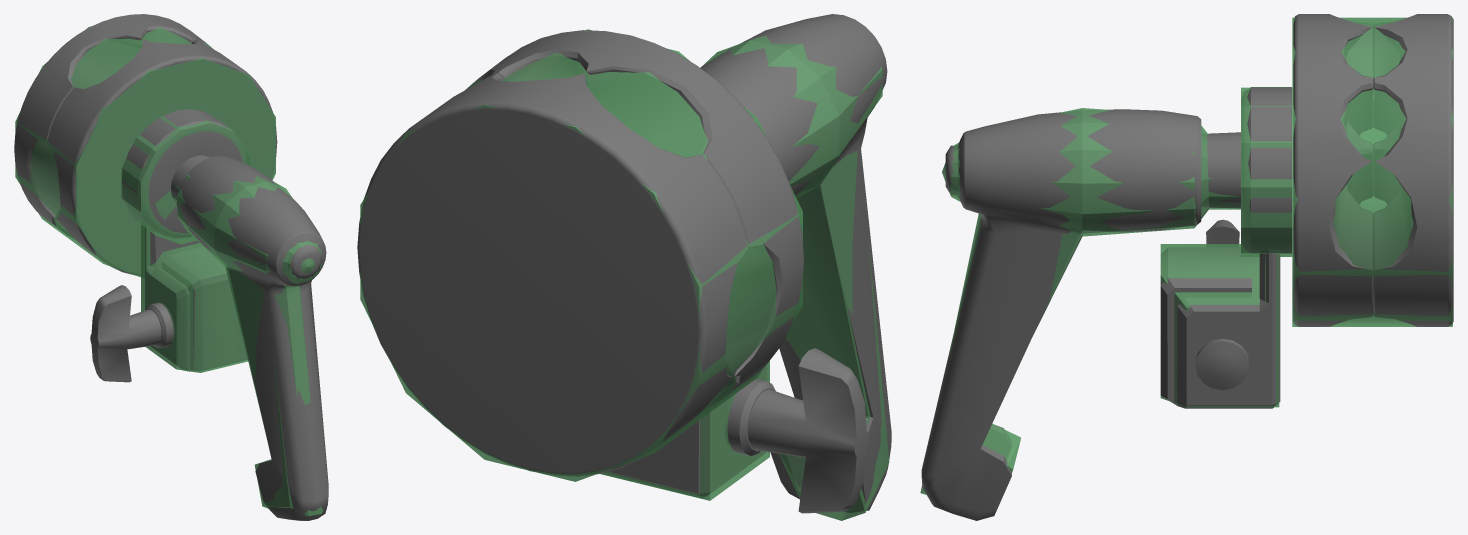
The model's file is TripodHandle_01_Mesh.fbx.
3 renders of one model, left to right at view 1: azimuth 30°, elevation 25°; view 2: azimuth 150°, elevation 25°; view 3: azimuth 270°, elevation 25°, orthographic. The views are drawn at different scales.
Parts seen in each view (by area): view 1: Tripod_Handle_01_LOD0, Tripod_Handle_01_col; view 2: Tripod_Handle_01_LOD0, Tripod_Handle_01_col; view 3: Tripod_Handle_01_LOD0, Tripod_Handle_01_col.
Boxes of the visible parts, bbox=[...] form: Tripod_Handle_01_LOD0: bbox=[14, 14, 328, 520]; Tripod_Handle_01_col: bbox=[15, 26, 323, 515]; Tripod_Handle_01_LOD0: bbox=[357, 14, 891, 513]; Tripod_Handle_01_col: bbox=[360, 29, 889, 520]; Tripod_Handle_01_LOD0: bbox=[921, 14, 1453, 520]; Tripod_Handle_01_col: bbox=[920, 17, 1452, 516].
Size of what is drawn, in the model's own units: 0.1441 by 0.2395 by 0.2391.
